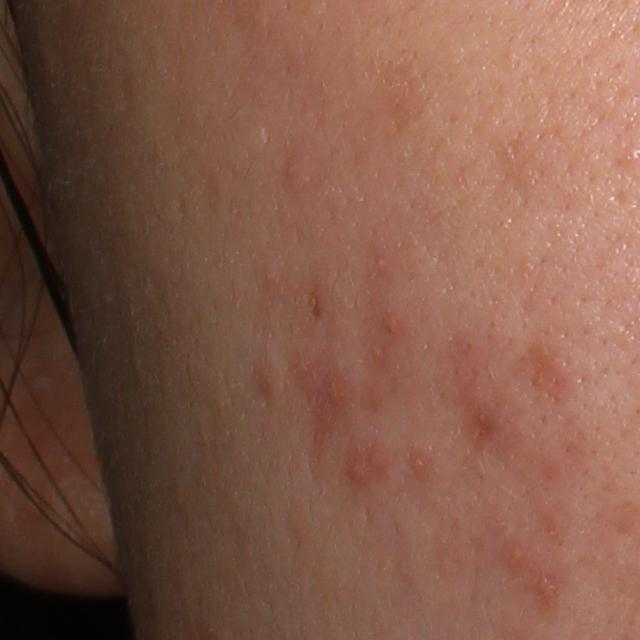papule: (536, 572, 560, 602), (382, 311, 403, 342), (345, 458, 368, 484), (411, 452, 431, 478)
